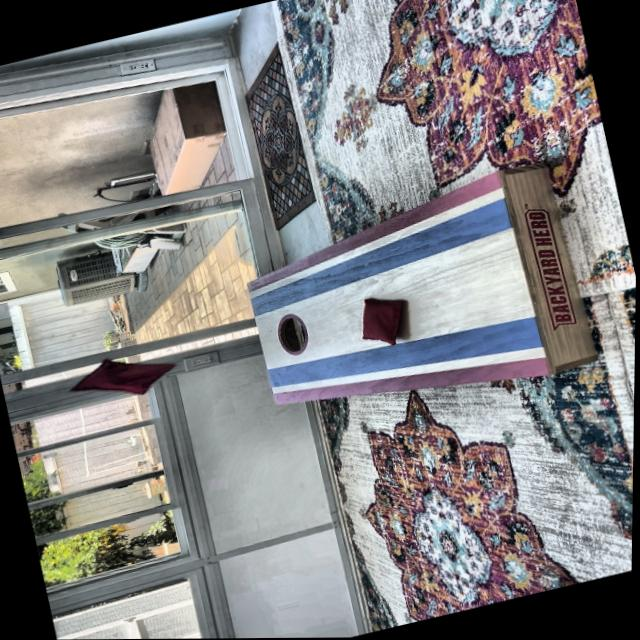board: (243, 210, 544, 412)
hole: (272, 311, 311, 358)
red-bean-bag: (64, 344, 177, 412), (354, 290, 413, 351)
